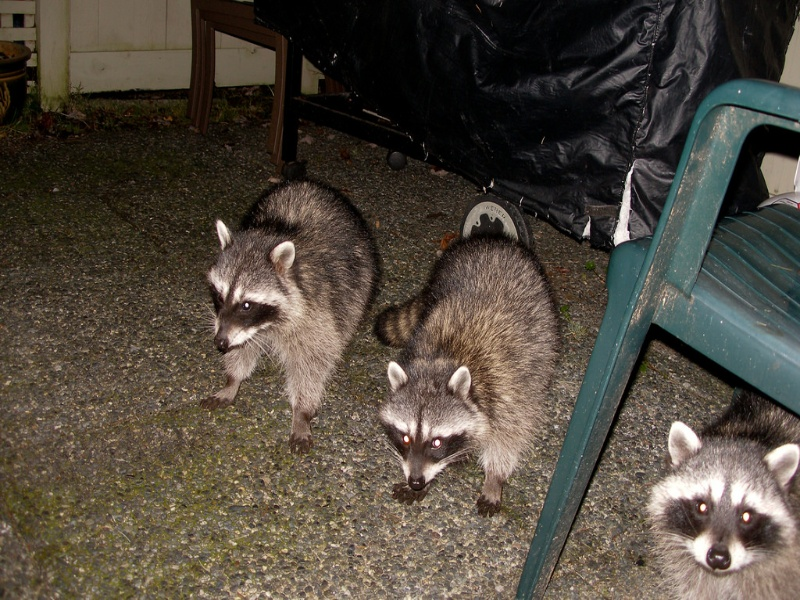raccoon: (364, 234, 562, 516), (196, 173, 383, 458), (650, 379, 796, 593)
